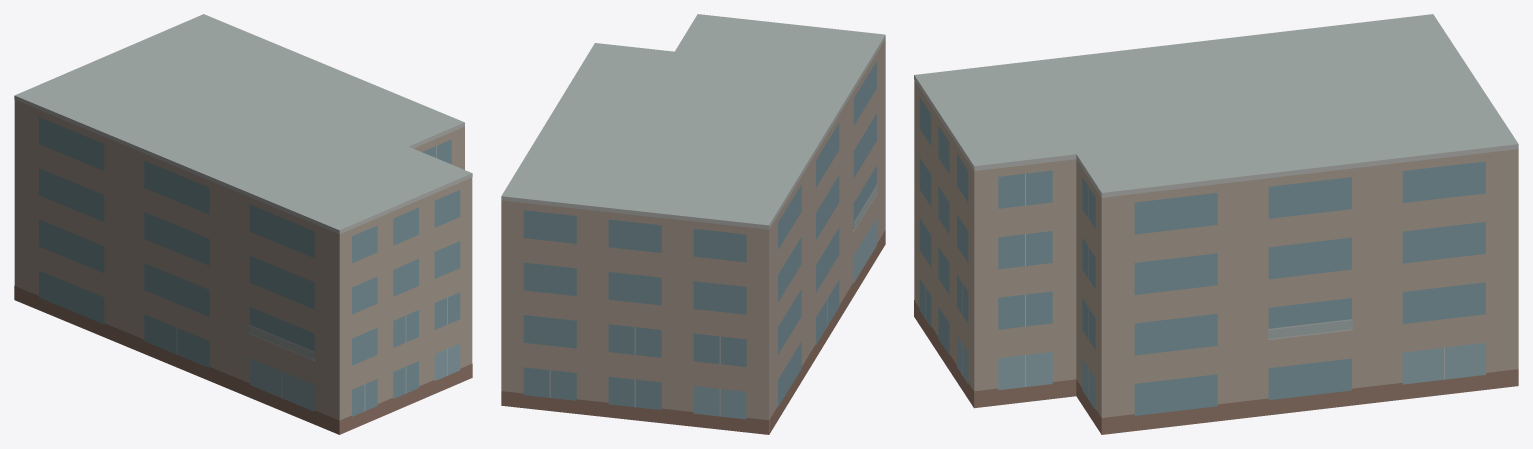
Rendered from residential-56ec7df4-fa04-46d8-9687-d729dd86135c.glb.
3 views of the same model, side by side, from view 1: azimuth 30°, elevation 25°; view 2: azimuth 150°, elevation 25°; view 3: azimuth 270°, elevation 25° (orthographic). The views are drawn at different scales.
Visible parts, largest first — view 1: residential-56ec7df4-fa04-46d8-9687-d729dd86135c.tmp; view 2: residential-56ec7df4-fa04-46d8-9687-d729dd86135c.tmp; view 3: residential-56ec7df4-fa04-46d8-9687-d729dd86135c.tmp.
Part boxes in pixels (x1,y1,x2,y2): residential-56ec7df4-fa04-46d8-9687-d729dd86135c.tmp: [14, 14, 472, 434]; residential-56ec7df4-fa04-46d8-9687-d729dd86135c.tmp: [501, 14, 885, 434]; residential-56ec7df4-fa04-46d8-9687-d729dd86135c.tmp: [914, 14, 1518, 434].
Size of the model in its own units: 19.37 by 12.2 by 27.64.
